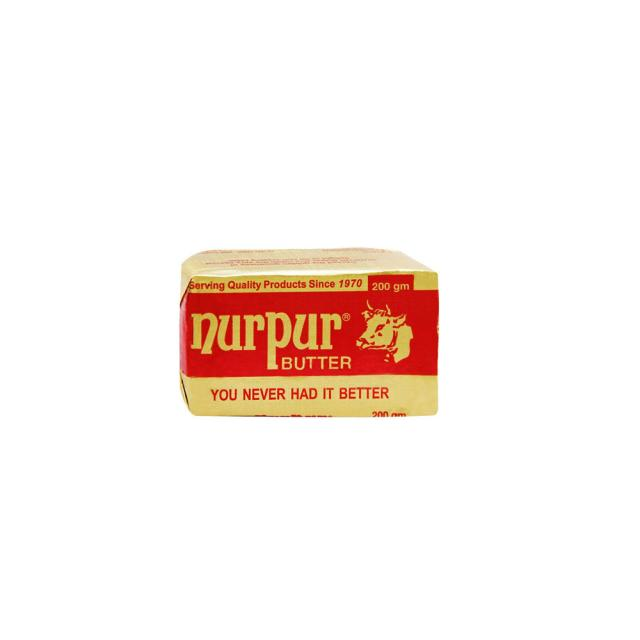butter: (178, 247, 439, 418)
